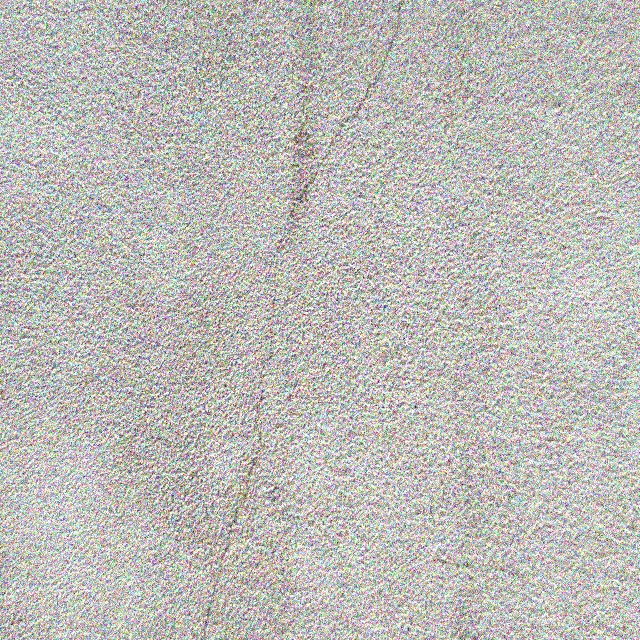SurfaceCrack: (2, 1, 606, 571)
